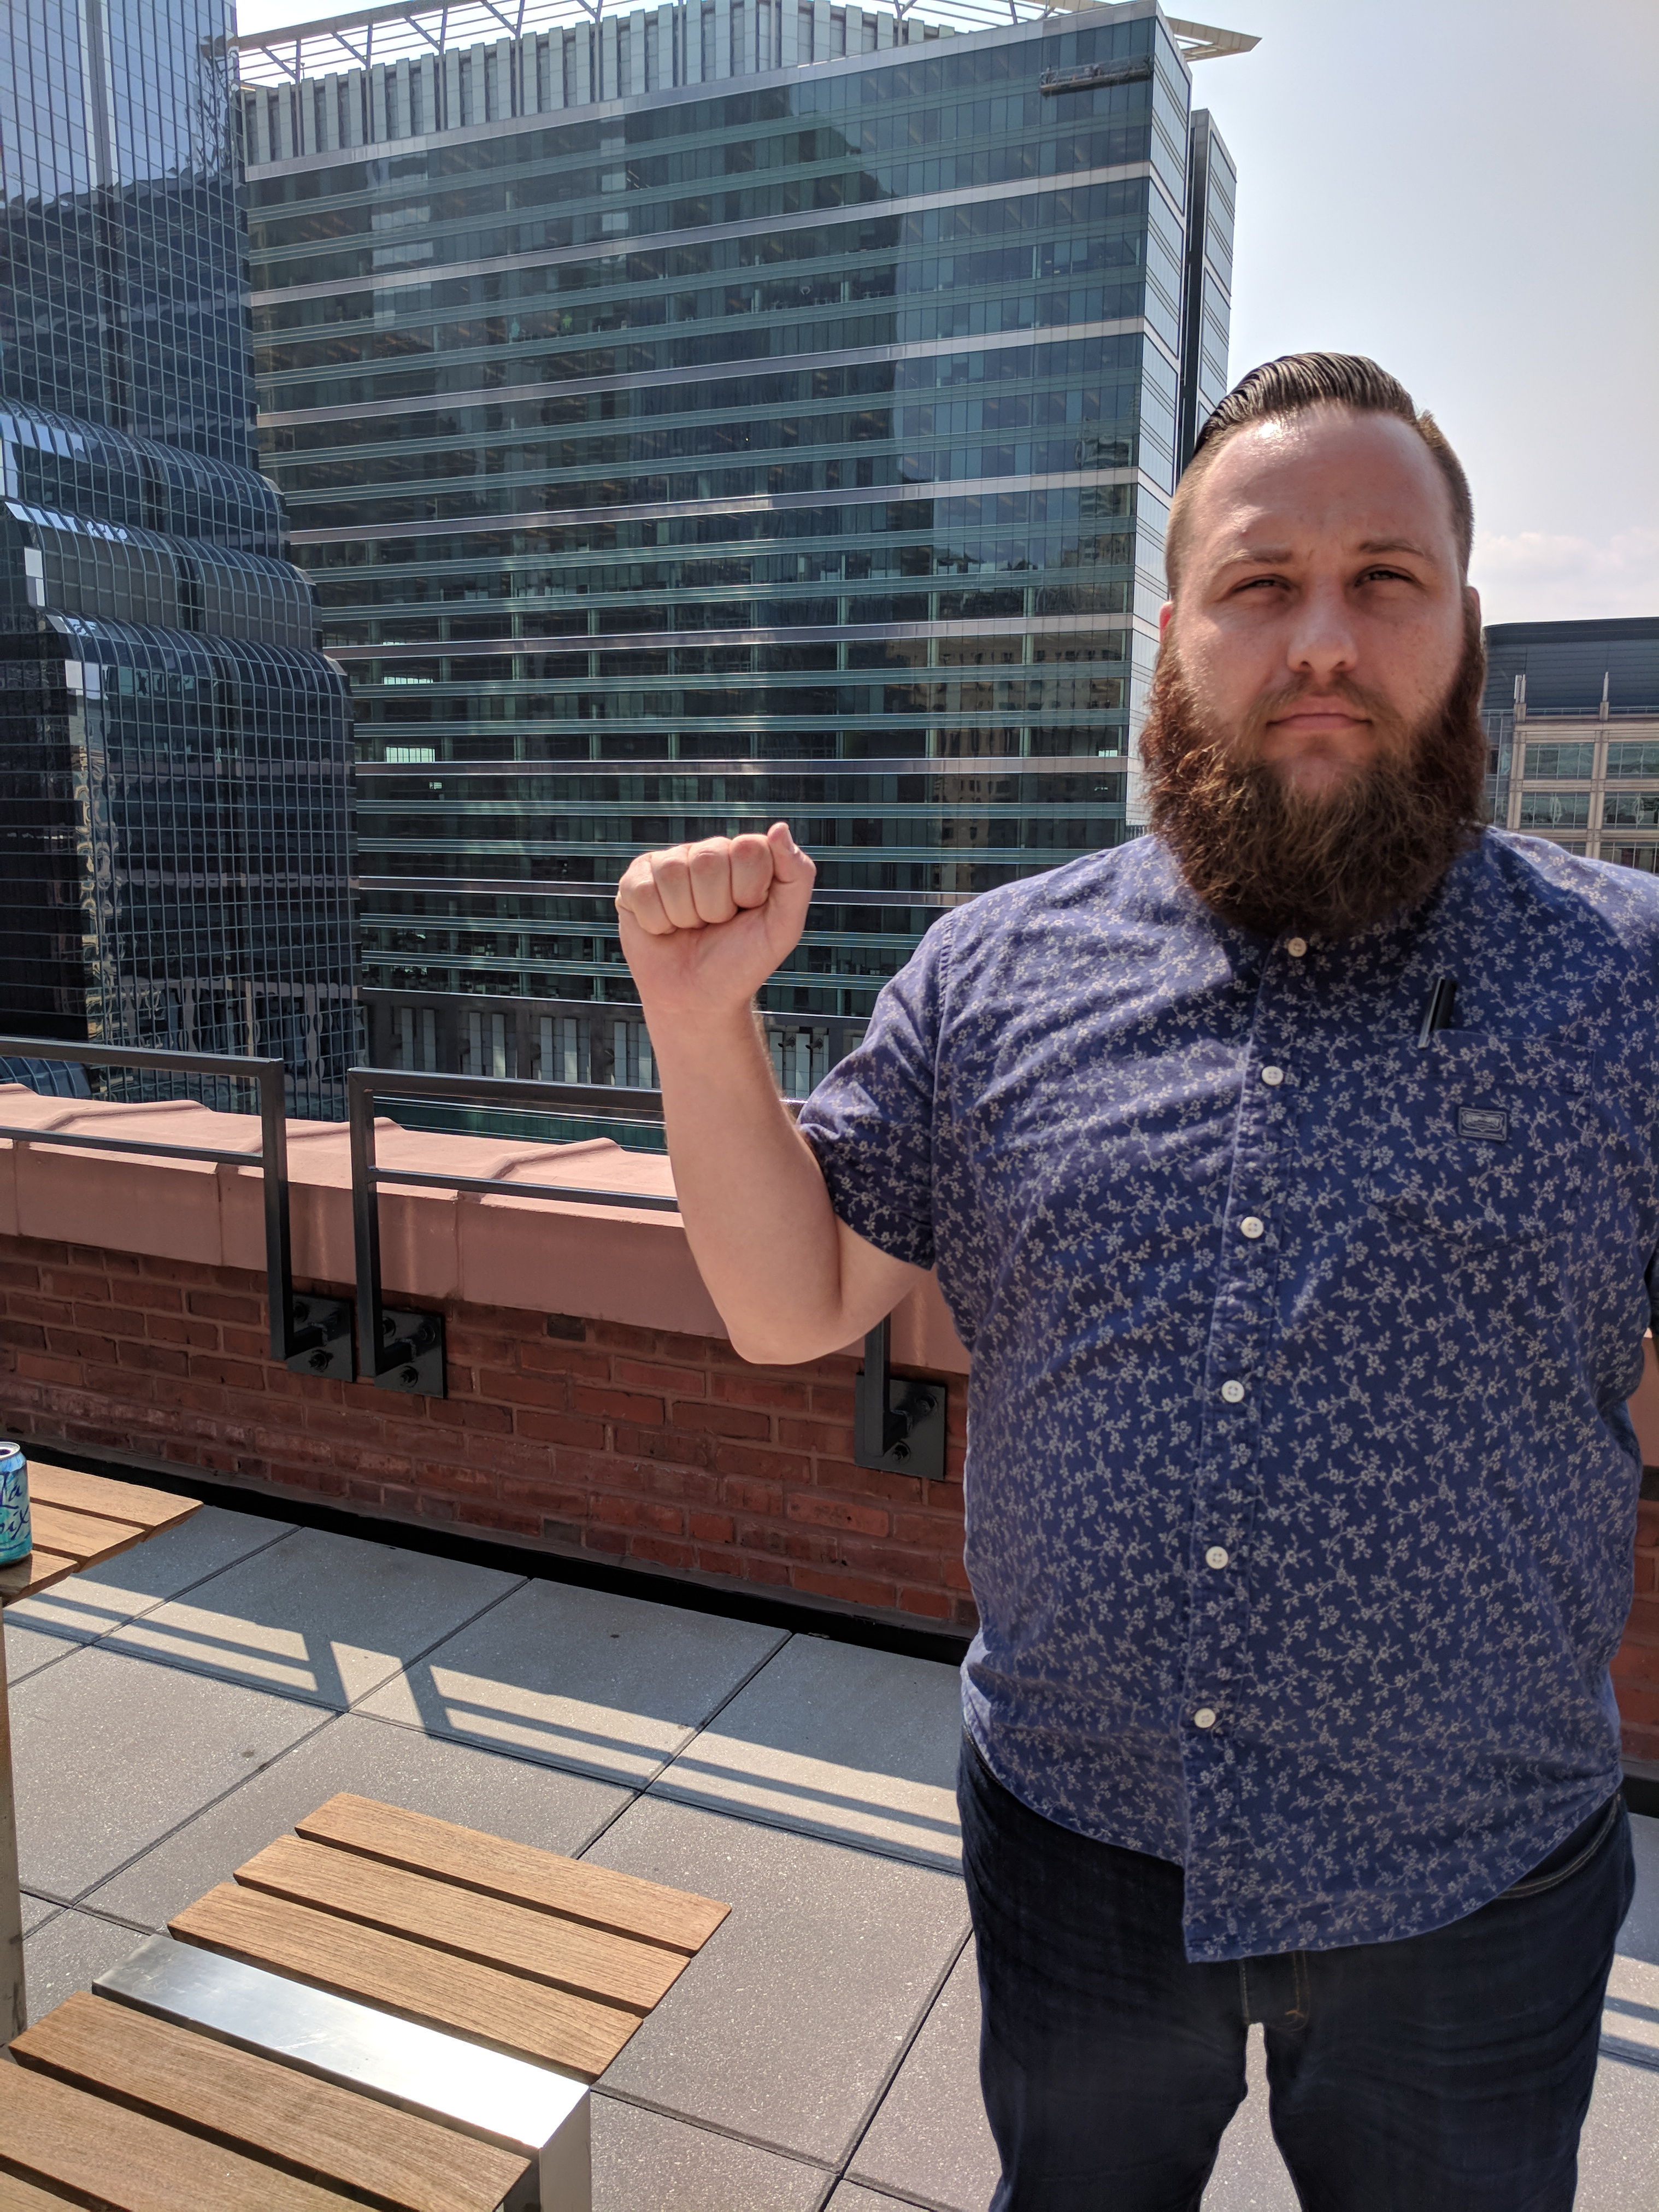a: (599, 824, 817, 1015)
